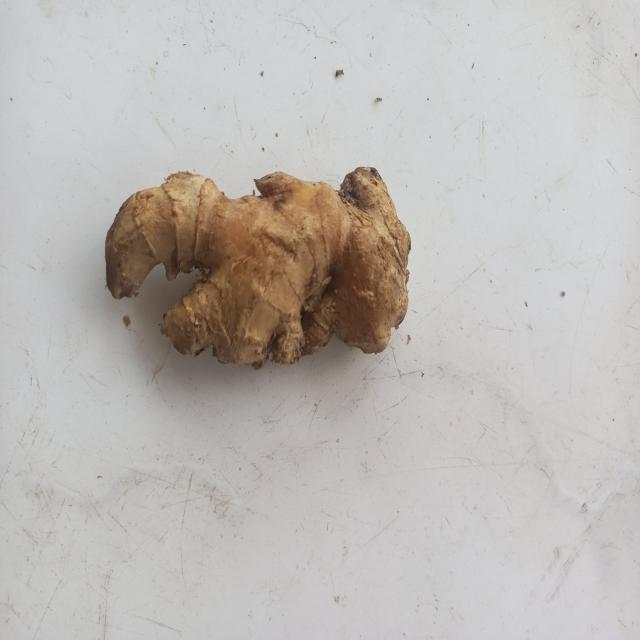ginger: (108, 164, 404, 356)
